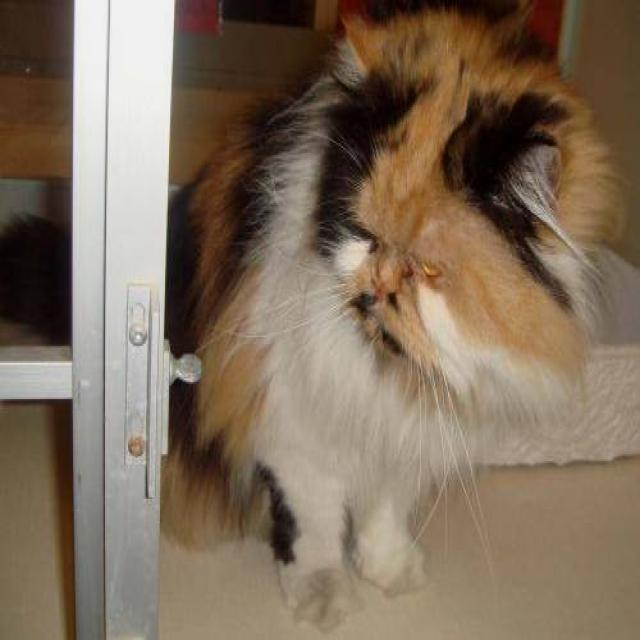Kucing: (175, 0, 613, 640)
